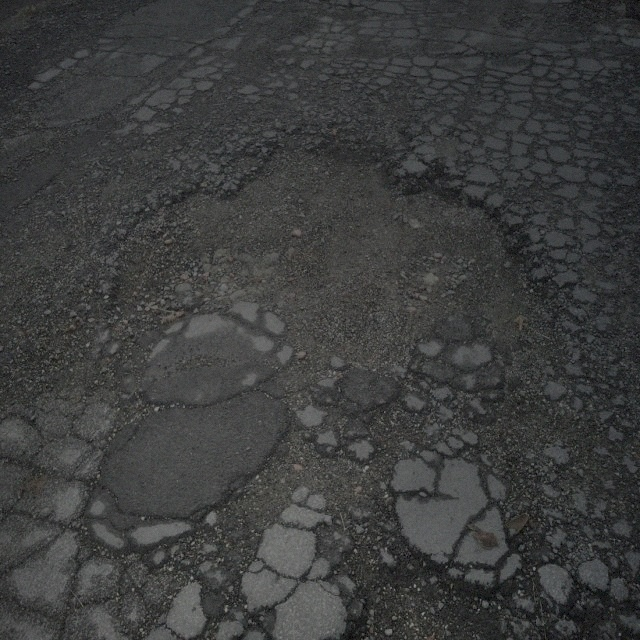pothole: (110, 127, 545, 401), (215, 417, 399, 532)
